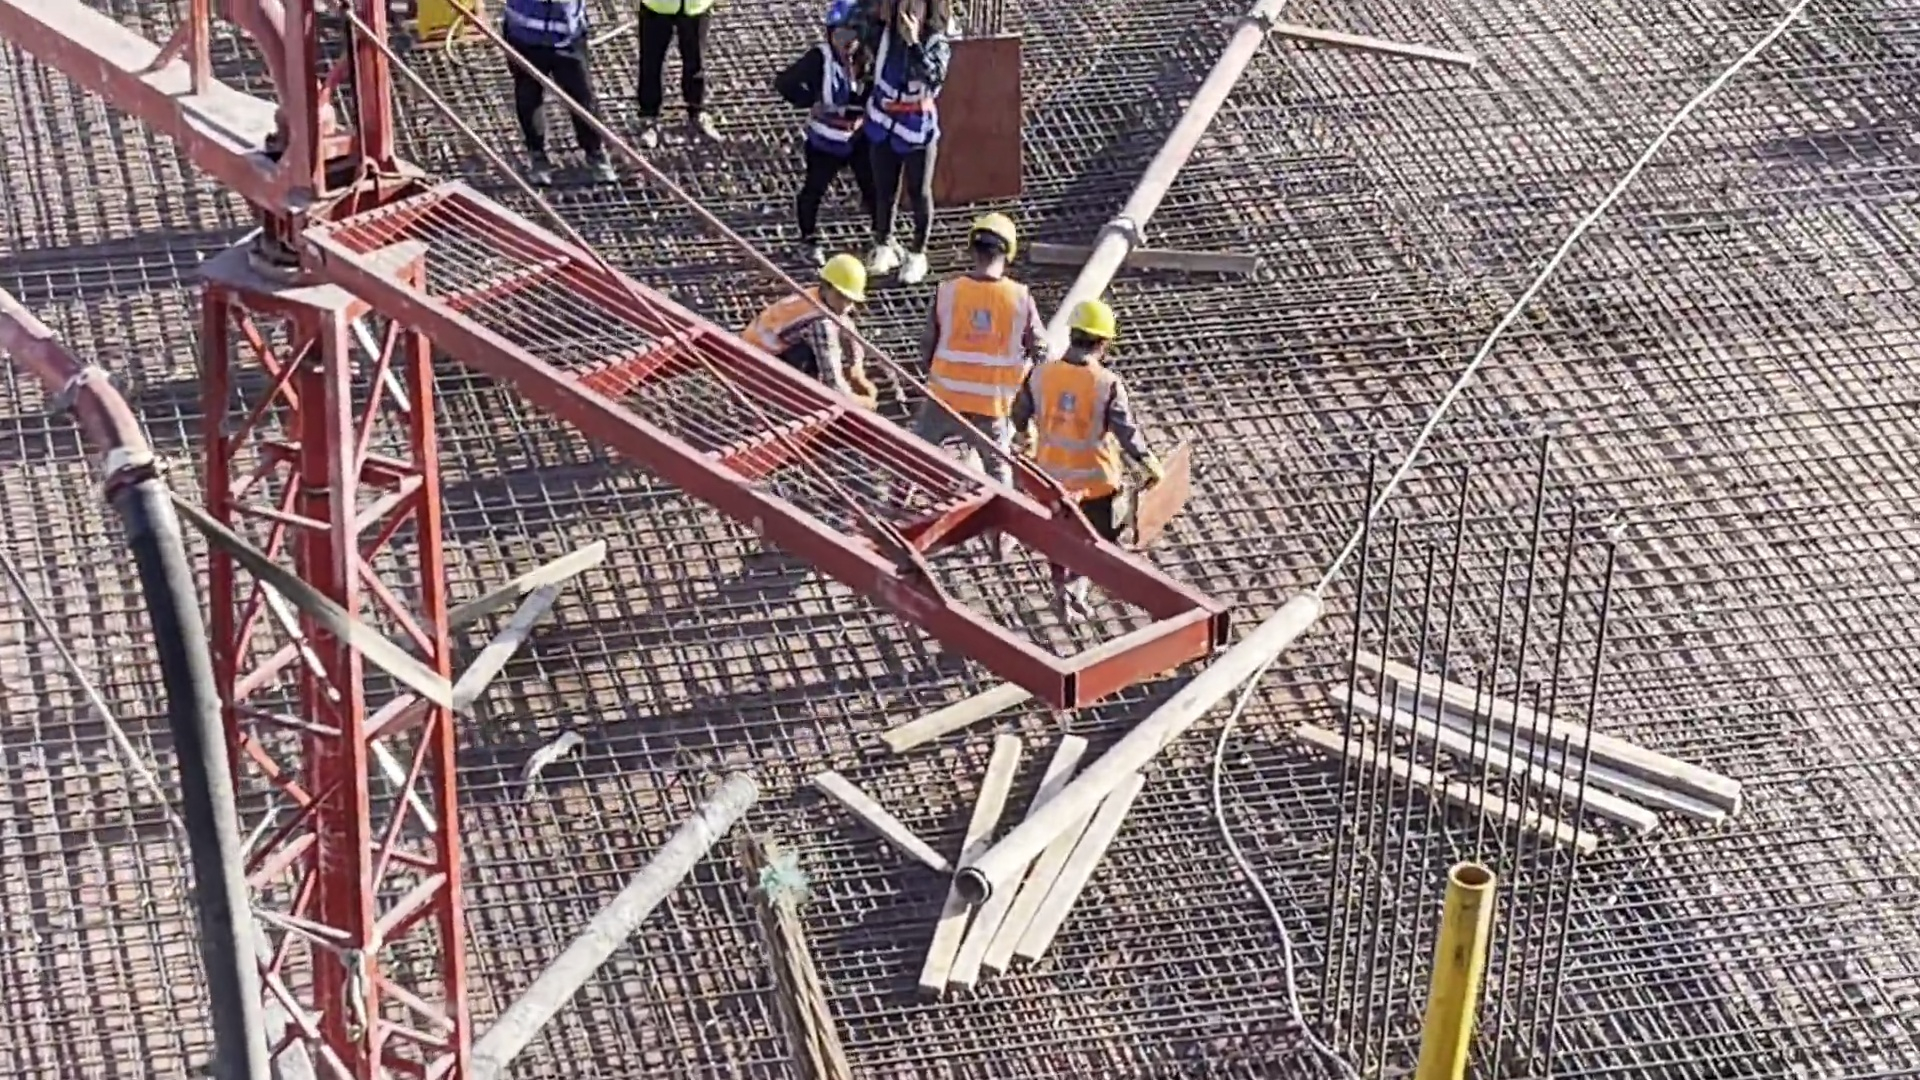helmet: (1063, 299, 1127, 348), (974, 215, 1023, 260), (813, 254, 863, 296), (825, 4, 867, 30)
person: (918, 201, 1056, 483), (1012, 313, 1170, 542), (776, 1, 886, 253), (501, 1, 634, 195), (870, 1, 952, 283), (747, 241, 874, 414), (619, 1, 734, 153)
vest: (1028, 368, 1124, 498), (939, 280, 1021, 403), (807, 44, 862, 167), (886, 41, 939, 140), (754, 298, 836, 352), (500, 3, 570, 52)
